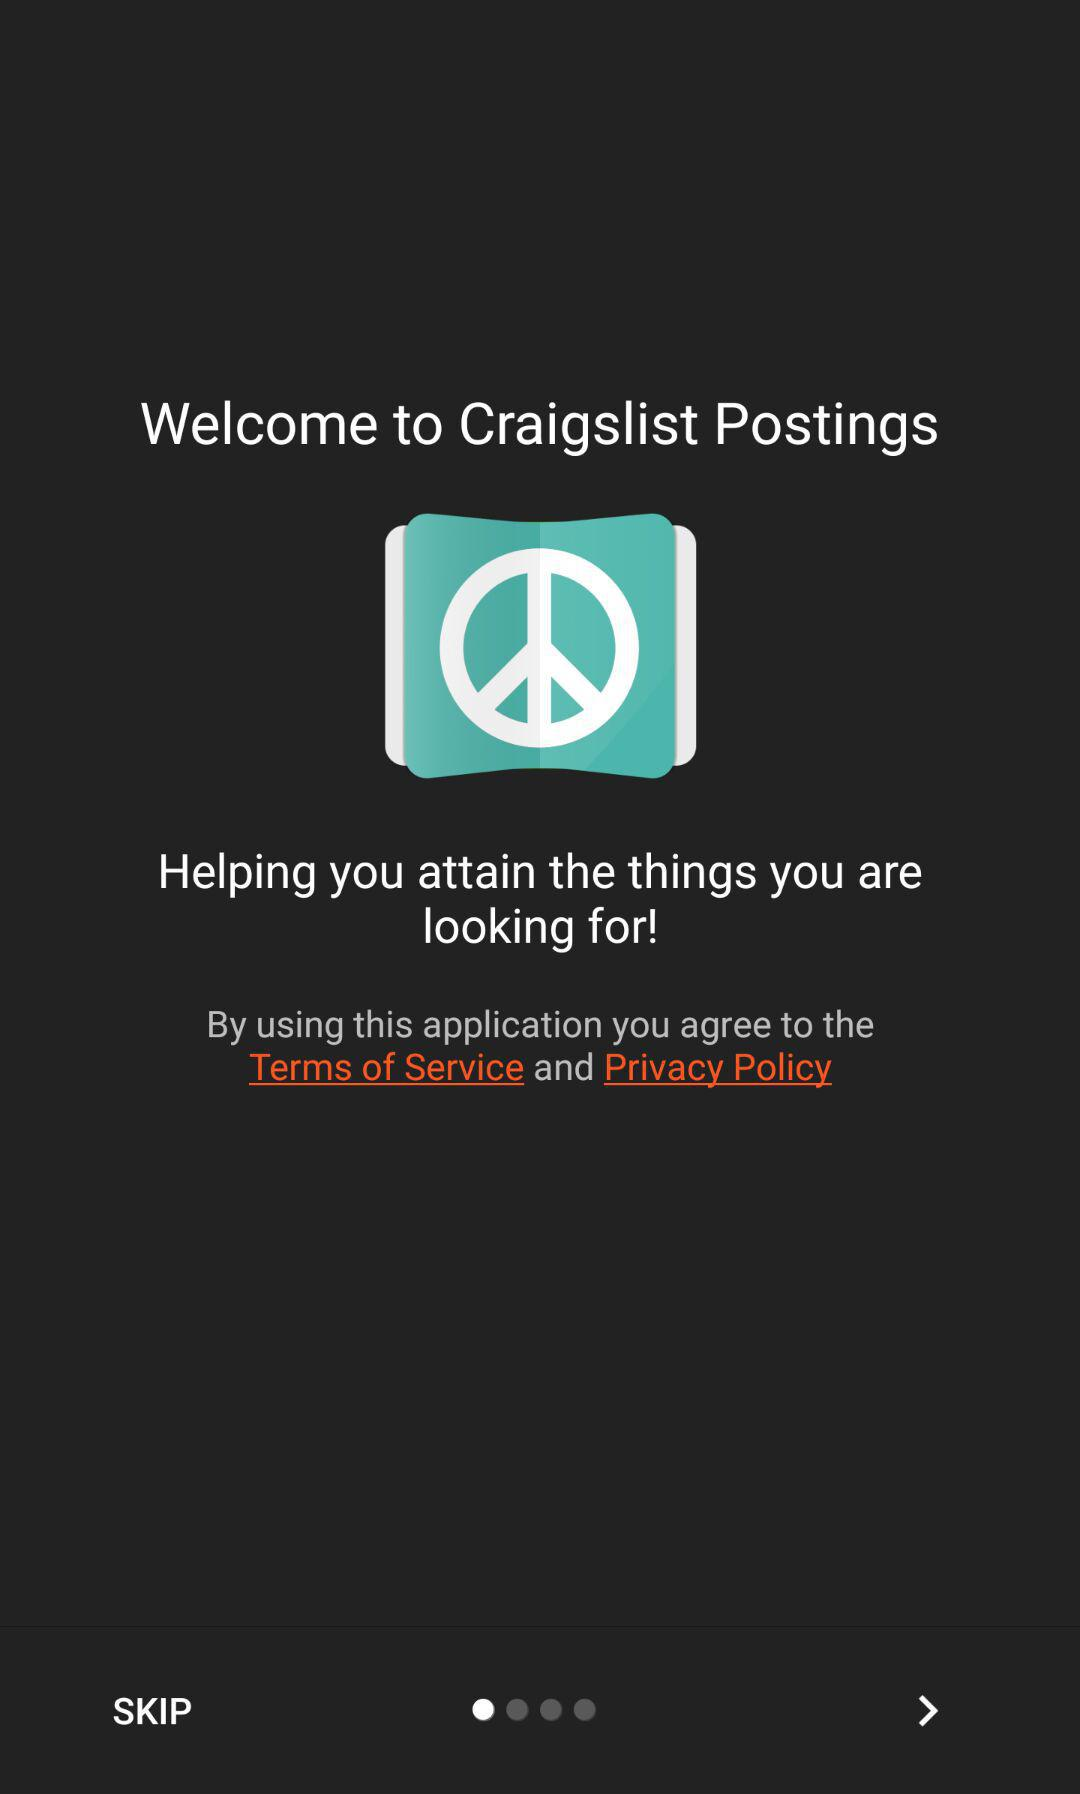Icon: (919, 1694, 939, 1727)
Image: (386, 513, 697, 780)
PageIndicator: (471, 1697, 598, 1724)
Text: (161, 851, 922, 955), (209, 1008, 875, 1090), (141, 400, 938, 457), (114, 1697, 193, 1726)
